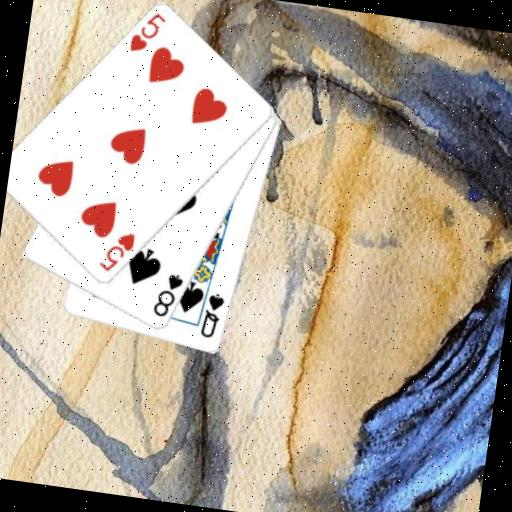5H: (94, 227, 138, 278), (125, 7, 168, 59)
8S: (149, 269, 186, 322)
QS: (198, 289, 228, 342)
